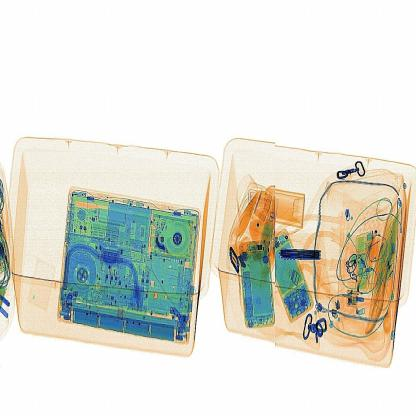scissors: (276, 241, 334, 264)
